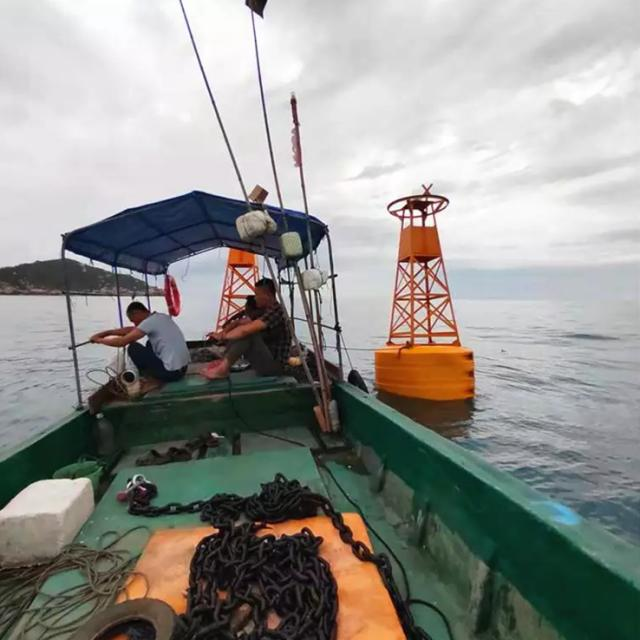buoy: (365, 180, 476, 404)
